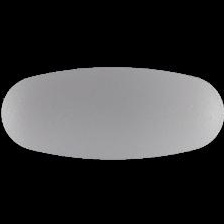43547-224: (0, 0, 224, 224)
